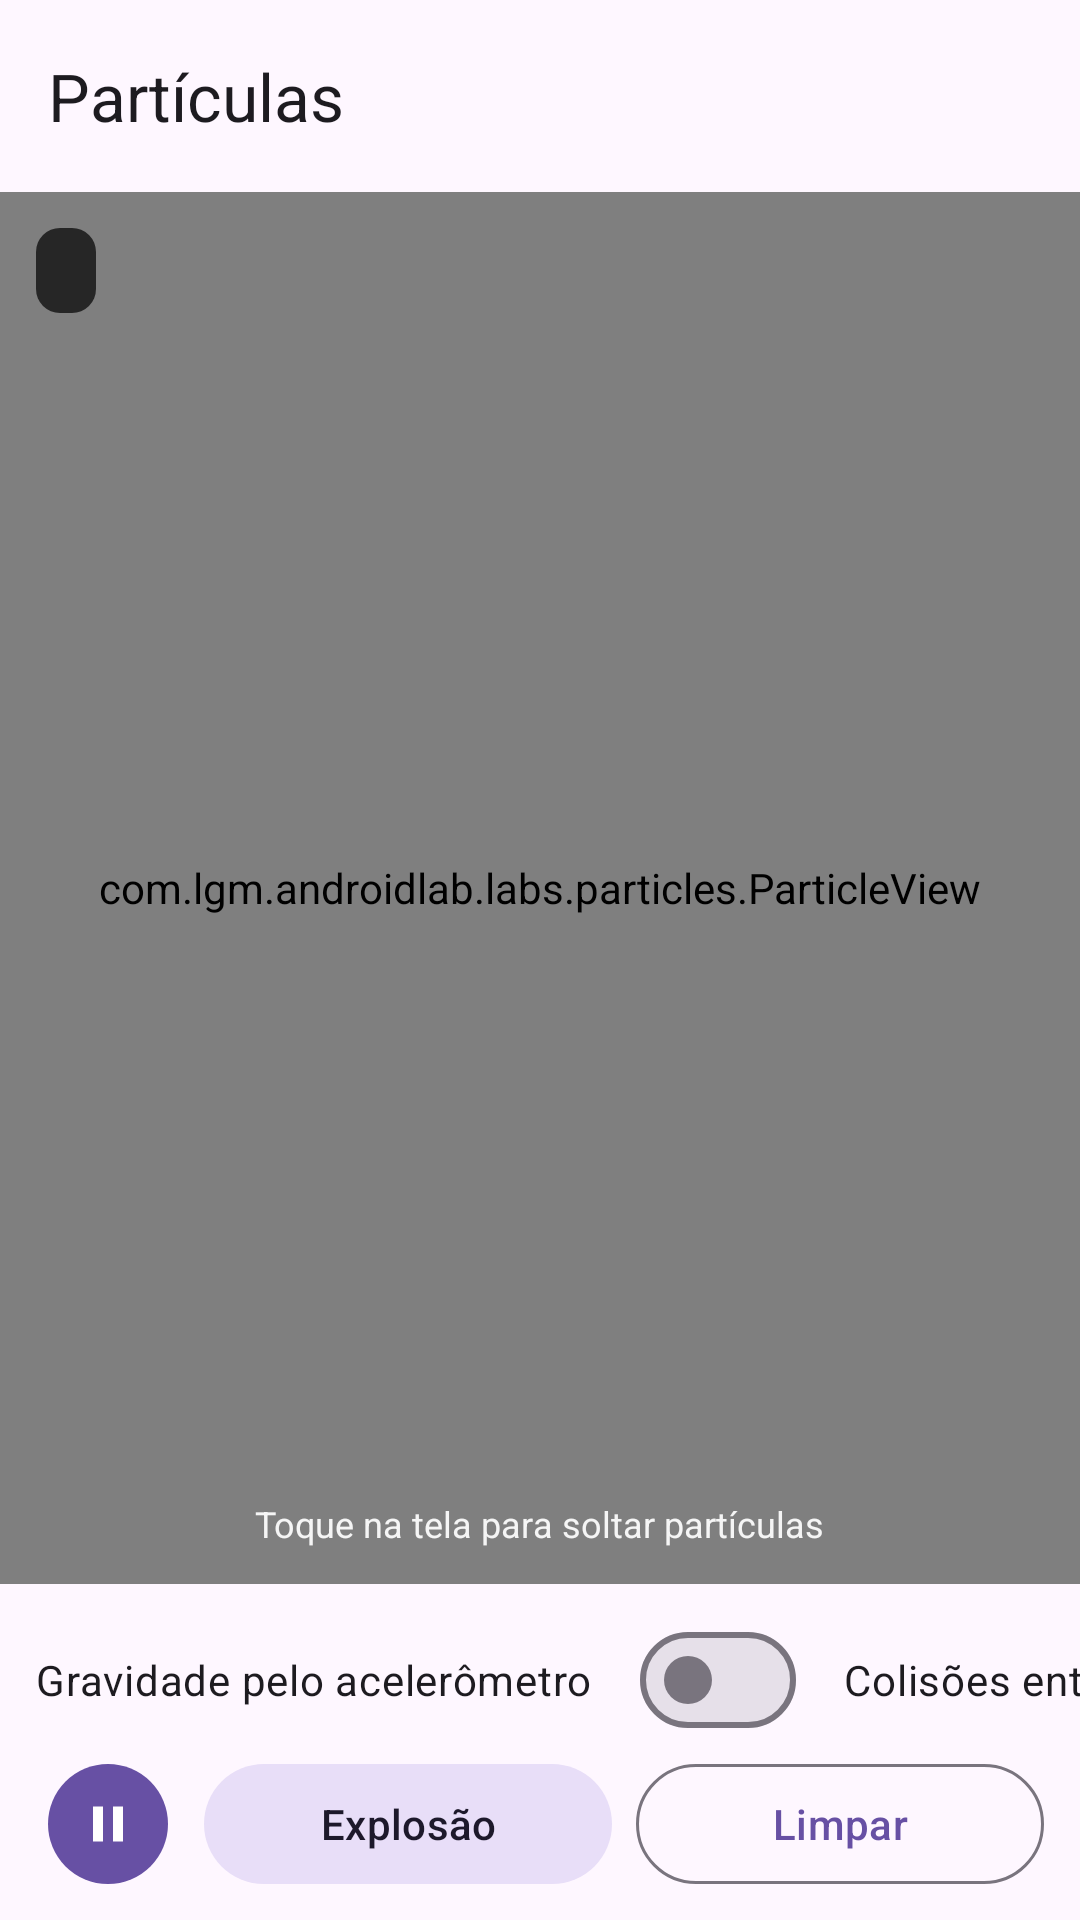

Named icons in this screenshot (1080px×1920px) and their centers, (x=x, y=y):
Pausar: (x=108, y=1824)
